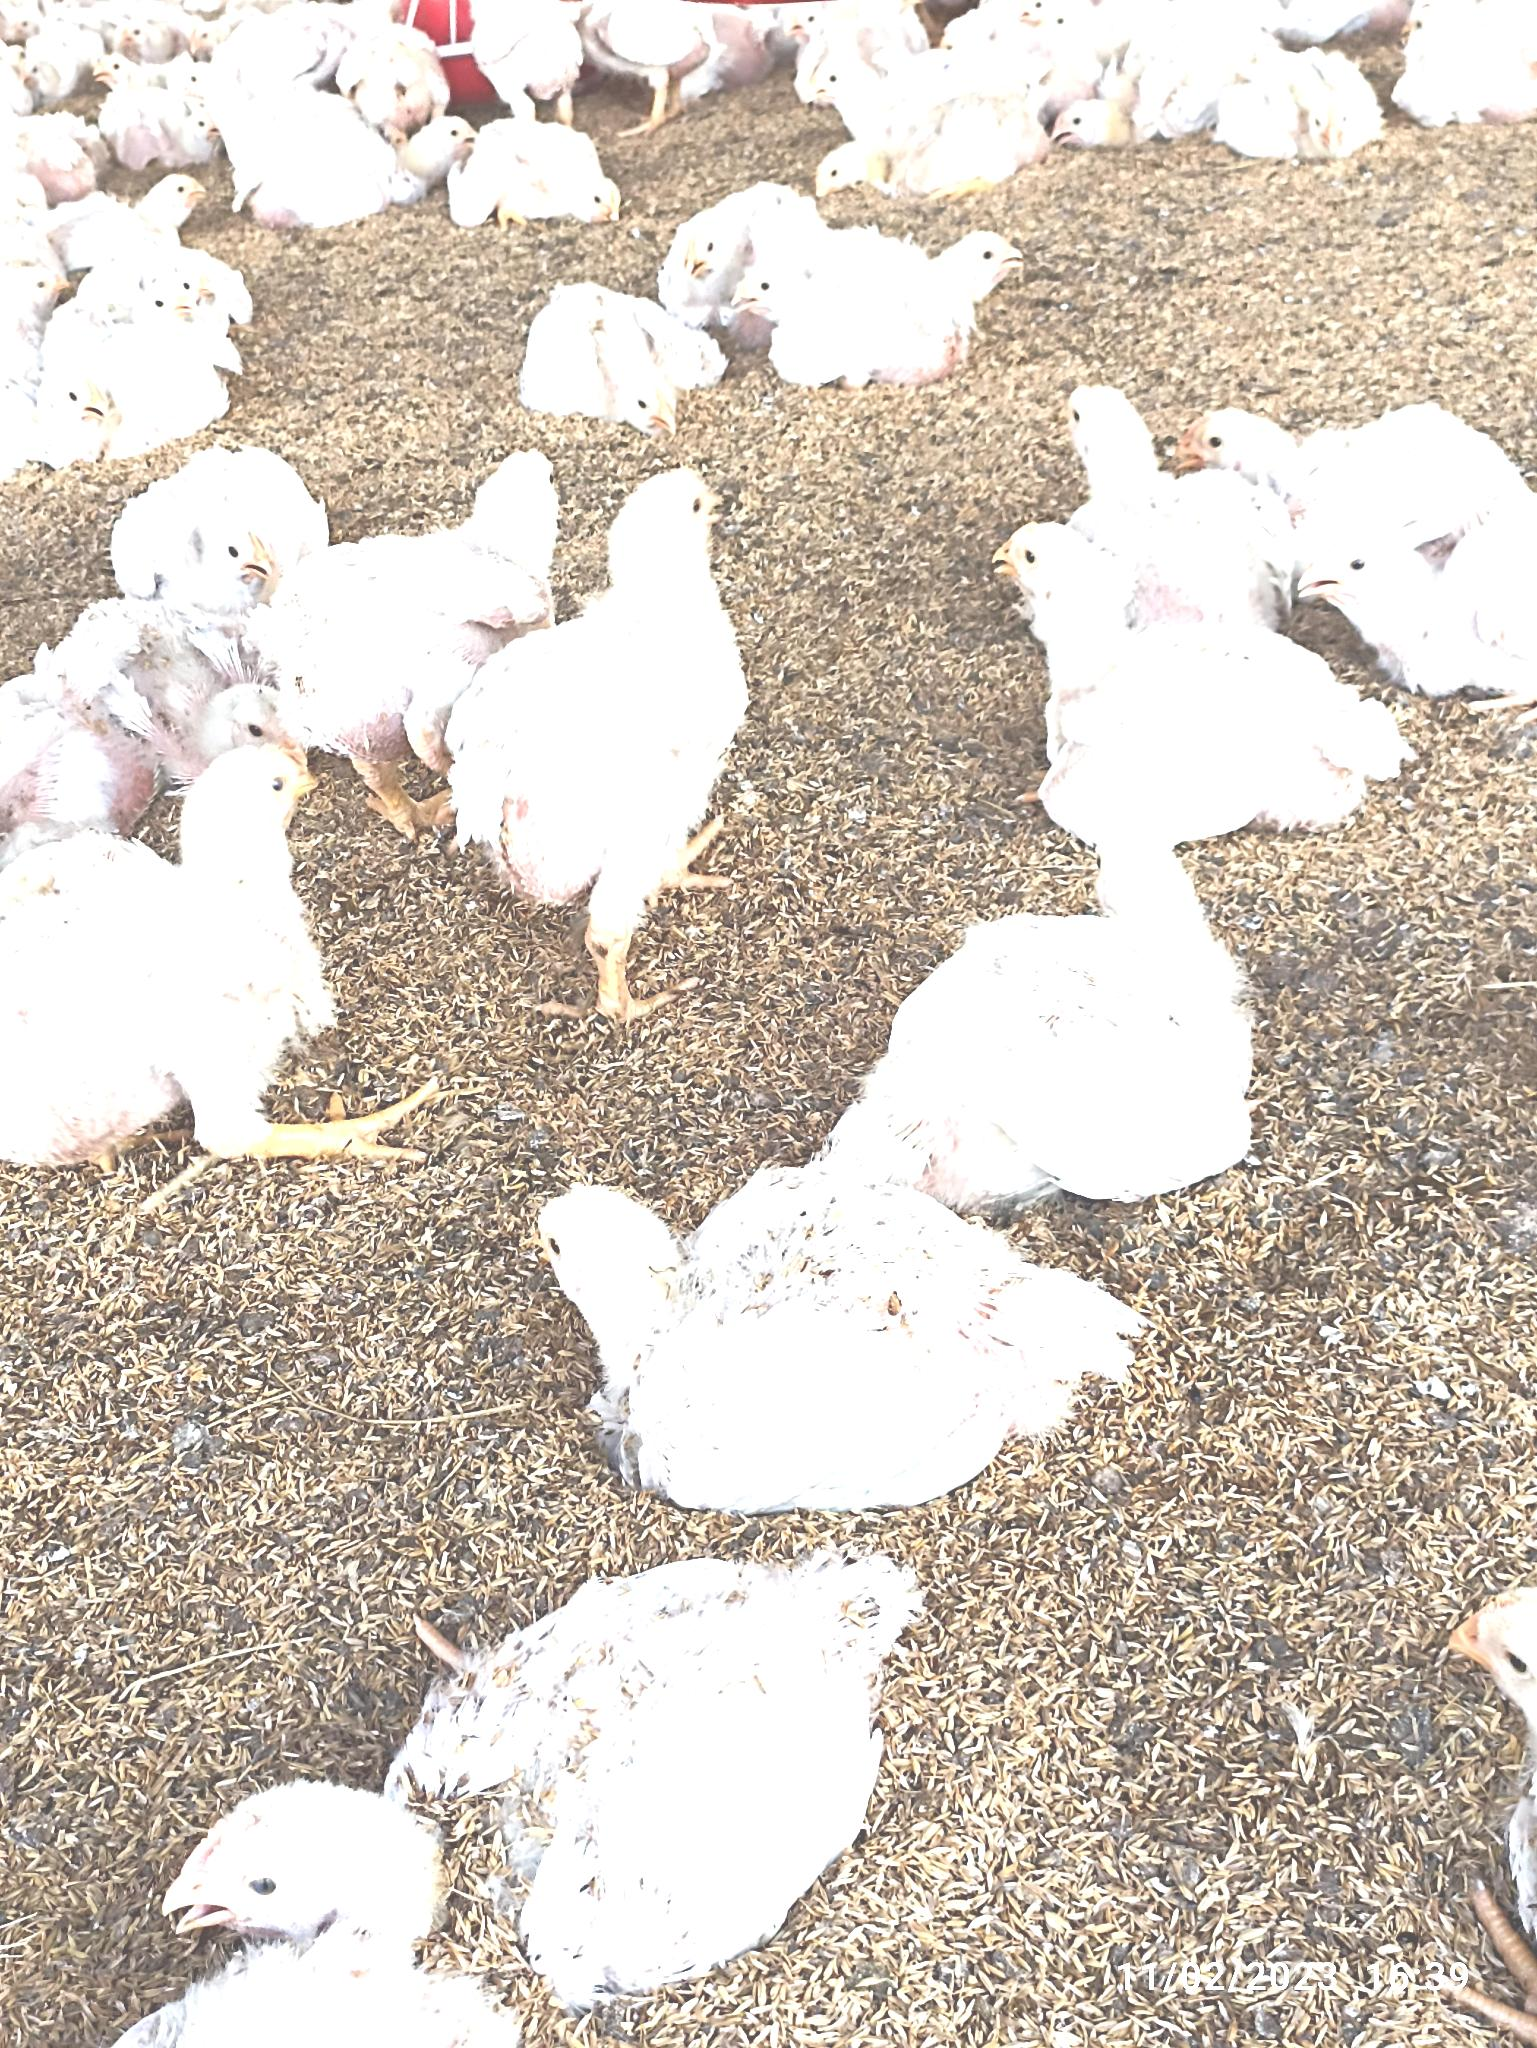Pollos: (166, 1535, 953, 2019), (534, 1180, 1140, 1490), (835, 818, 1253, 1209), (2, 720, 342, 1159), (468, 457, 757, 901), (1003, 523, 1380, 825), (2, 279, 242, 486), (1317, 486, 1537, 705), (1049, 373, 1293, 566), (107, 441, 316, 623), (244, 95, 476, 242), (725, 253, 977, 386), (500, 266, 735, 408), (799, 65, 1046, 178), (1053, 2, 1233, 140), (1221, 32, 1405, 165), (53, 165, 194, 273), (491, 123, 634, 224)
